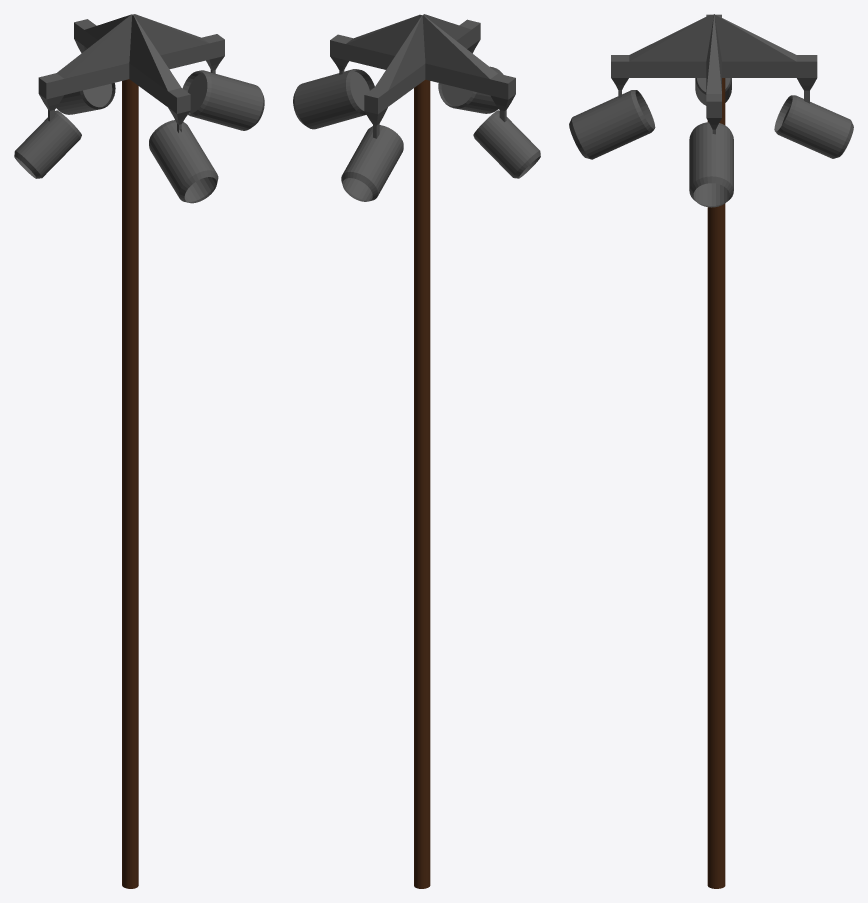
Rendered from lights.fbx.
3 renders of one model, left to right at view 1: azimuth 30°, elevation 25°; view 2: azimuth 150°, elevation 25°; view 3: azimuth 270°, elevation 25°, orthographic.
Visible parts, largest first — view 1: Cylinder.008; view 2: Cylinder.008; view 3: Cylinder.008.
Boxes of the visible parts, <box> form: Cylinder.008: <box>14,14,264,888</box>; Cylinder.008: <box>293,14,540,888</box>; Cylinder.008: <box>569,14,853,888</box>.
Bounding box in the file's own units: 143 × 491 × 145.
